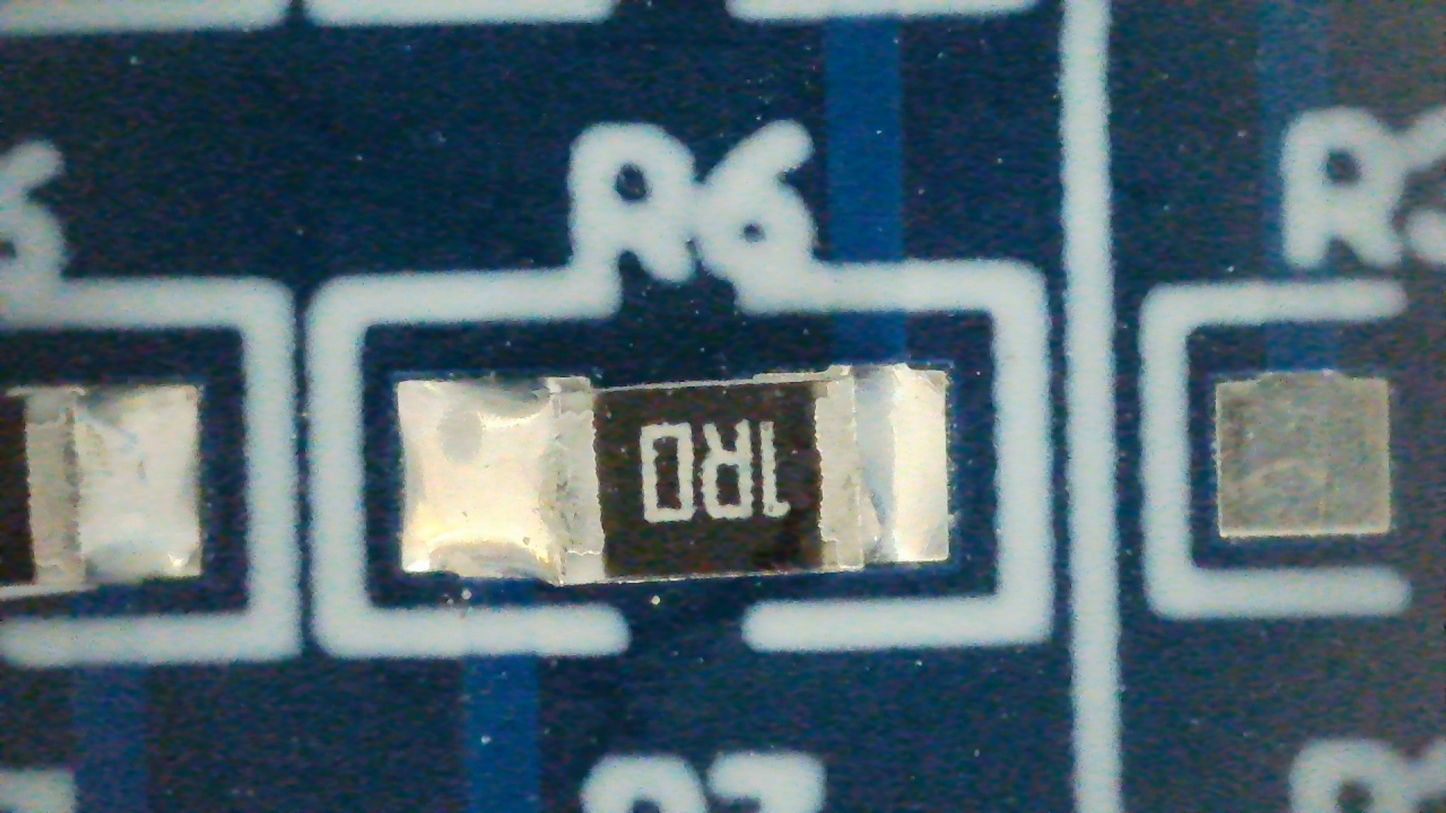OK: (399, 362, 950, 587)
